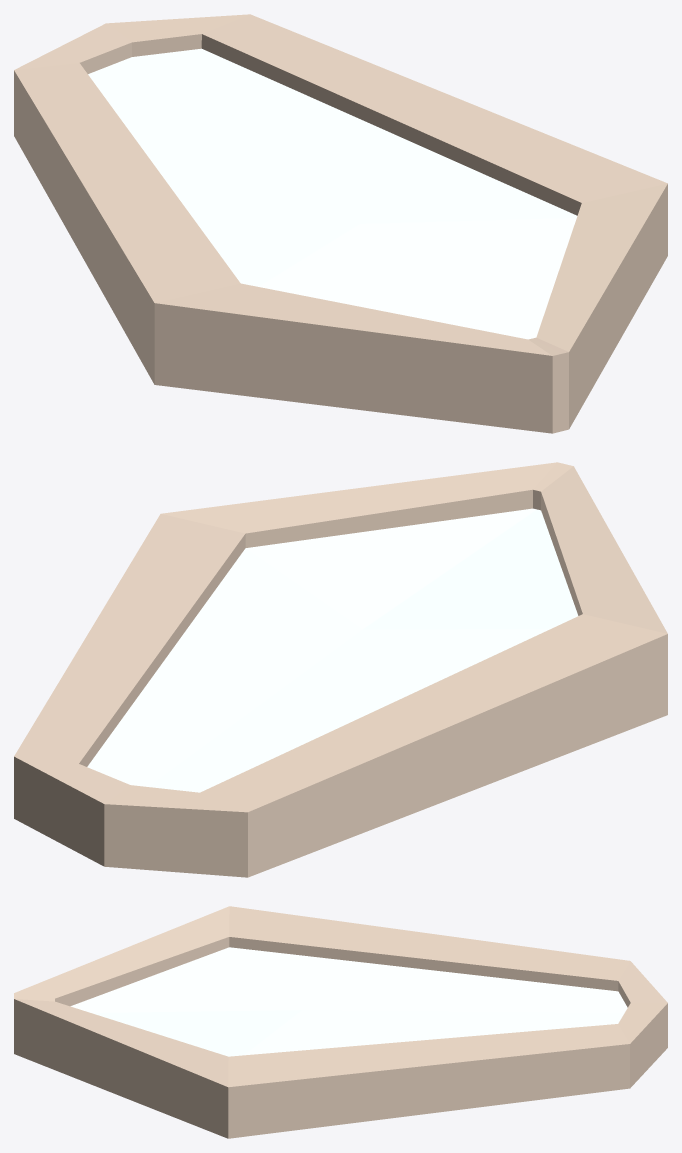
Rendered from ShardOfAridis.fbx.
The picture shows the model from 3 angles, top to bottom: view 1: azimuth 30°, elevation 25°; view 2: azimuth 150°, elevation 25°; view 3: azimuth 270°, elevation 25°; orthographic projection. The views are drawn at different scales.
Visible parts, largest first — view 1: ShardOfAridis_LOD0; view 2: ShardOfAridis_LOD0; view 3: ShardOfAridis_LOD0.
Part boxes in pixels (bbox=[...]): ShardOfAridis_LOD0: bbox=[14, 14, 667, 433]; ShardOfAridis_LOD0: bbox=[14, 462, 667, 877]; ShardOfAridis_LOD0: bbox=[14, 906, 667, 1138].
Size of what is drawn, in the model's own units: 0.2848 by 0.0434 by 0.4427.
